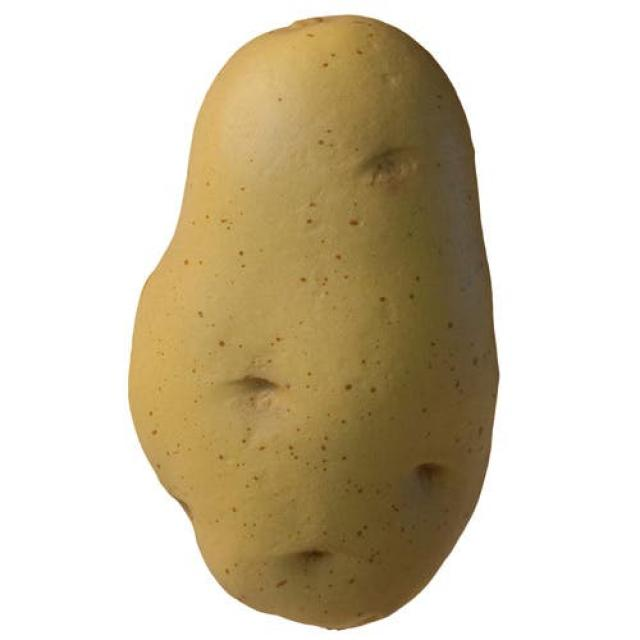potato: (124, 11, 494, 631)
